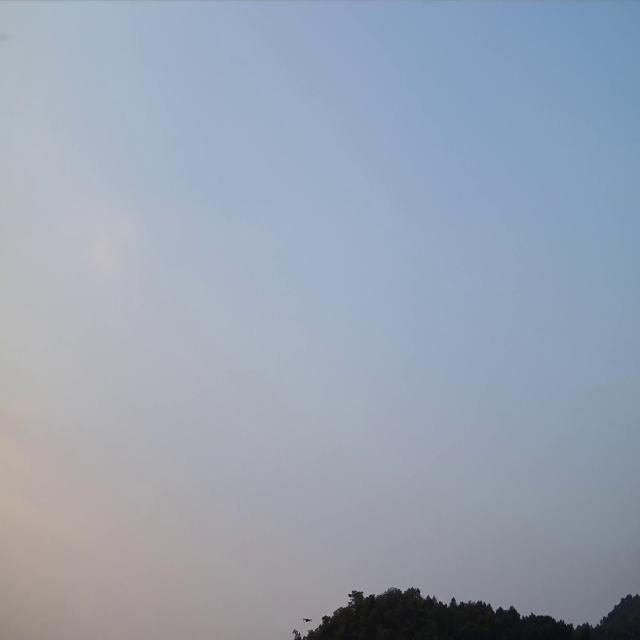UAV: (303, 616, 312, 623)
